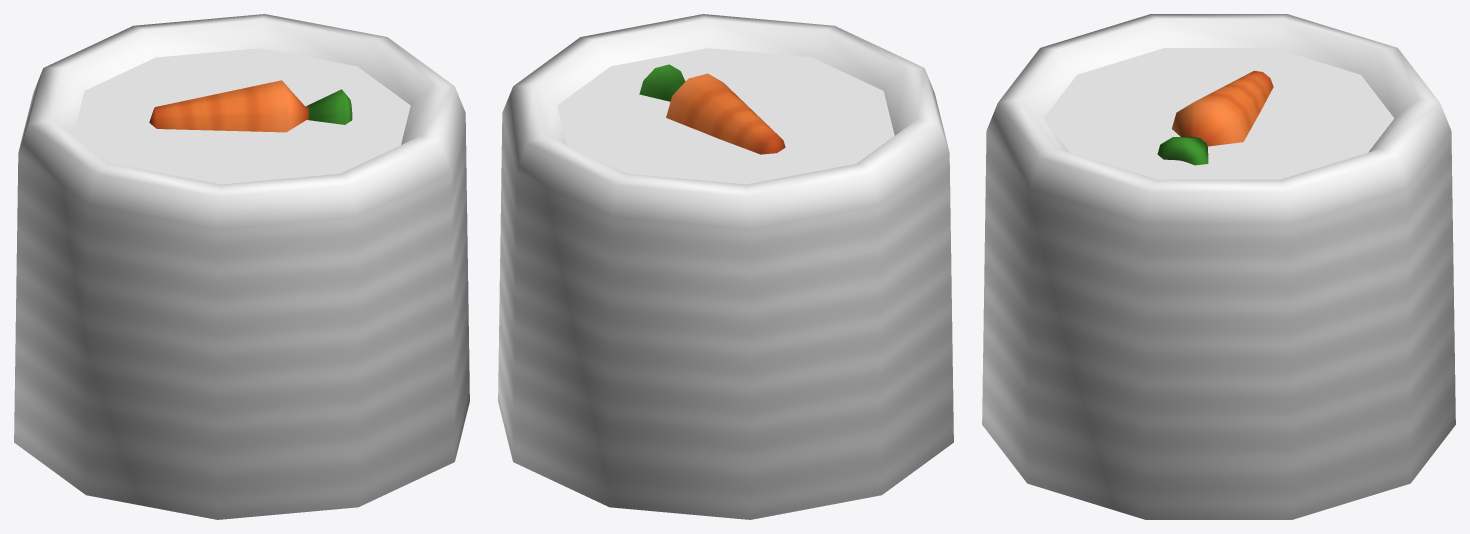
Rendered from Carrot_Small.fbx.
3 renders of one model, left to right at view 1: azimuth 30°, elevation 25°; view 2: azimuth 150°, elevation 25°; view 3: azimuth 270°, elevation 25°, orthographic.
Visible parts, largest first — view 1: Carrot_Small; view 2: Carrot_Small; view 3: Carrot_Small.
Boxes of the visible parts, <box> form: Carrot_Small: <box>14,14,469,519</box>; Carrot_Small: <box>498,14,953,519</box>; Carrot_Small: <box>982,14,1455,519</box>.
Size of the model in its own units: 36.87 by 30.62 by 38.77.
